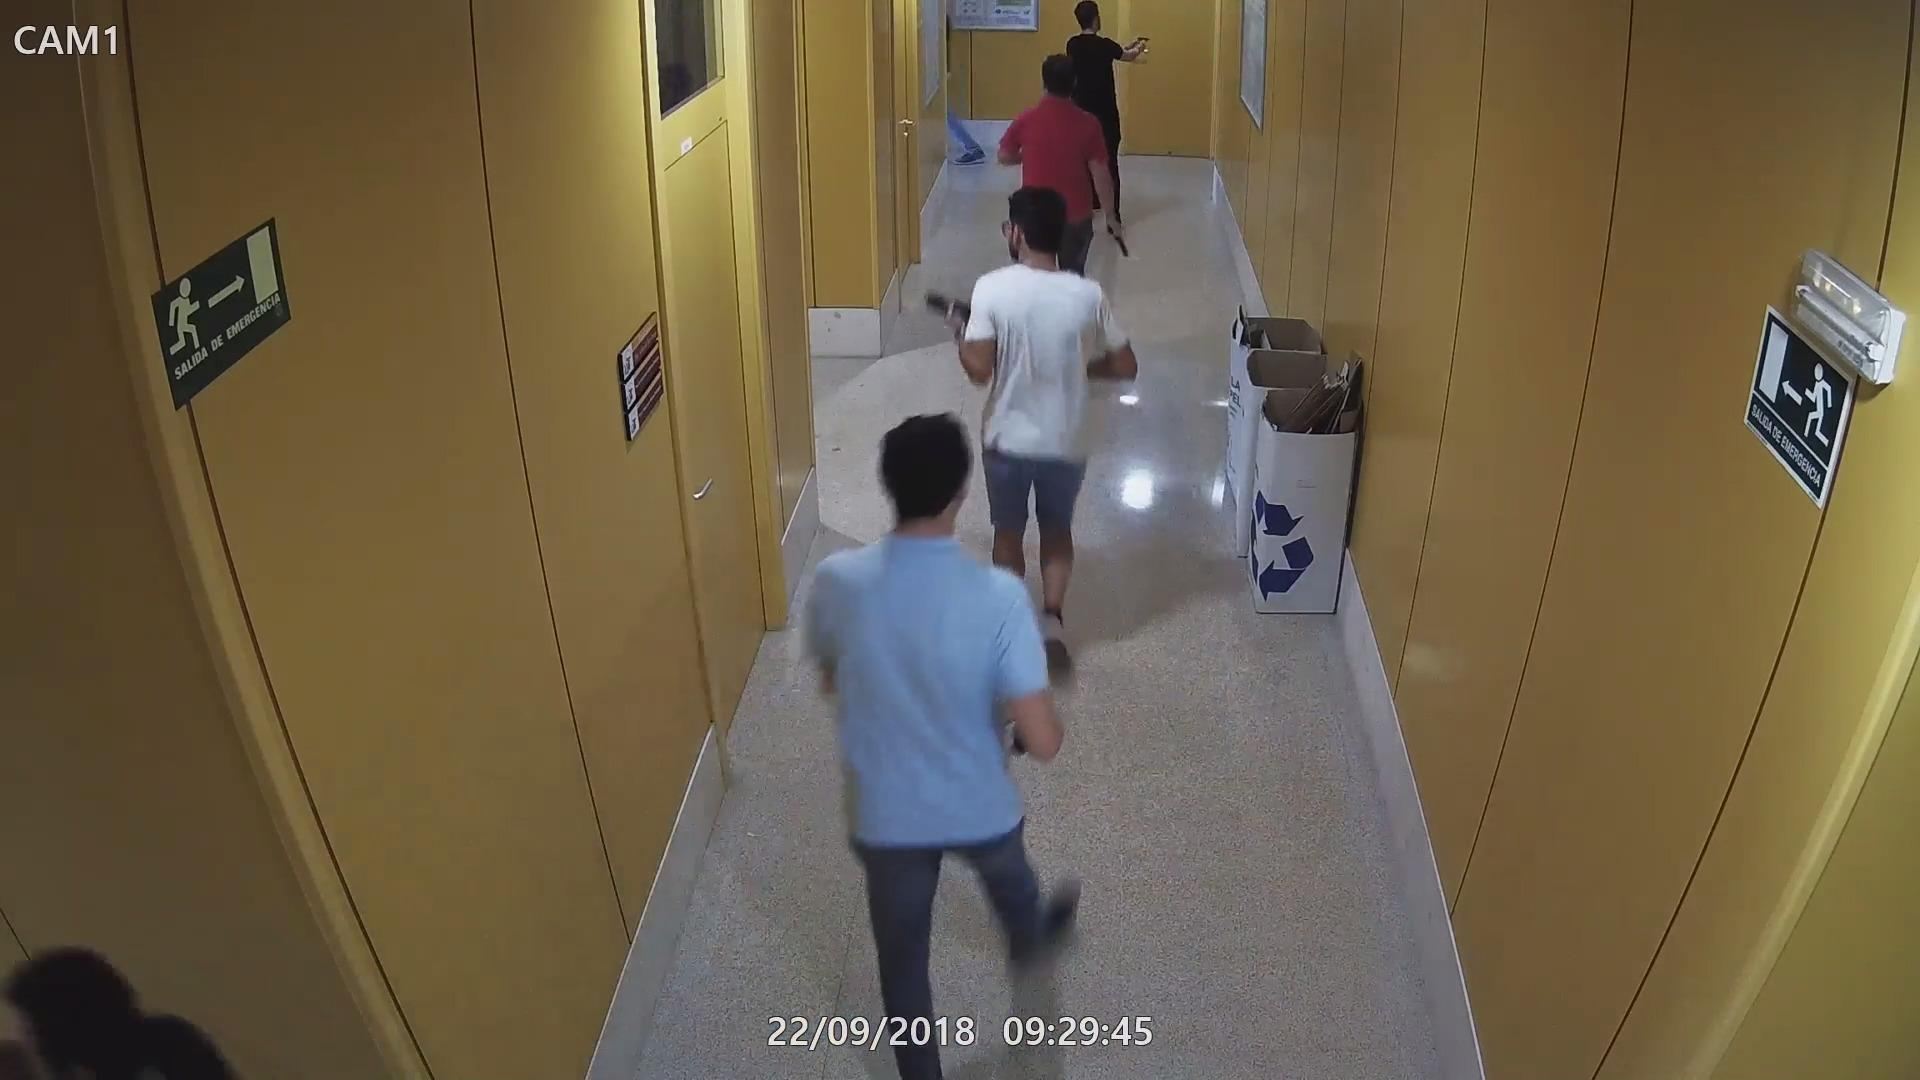Handgun: (1108, 220, 1134, 256), (1127, 29, 1154, 62)
